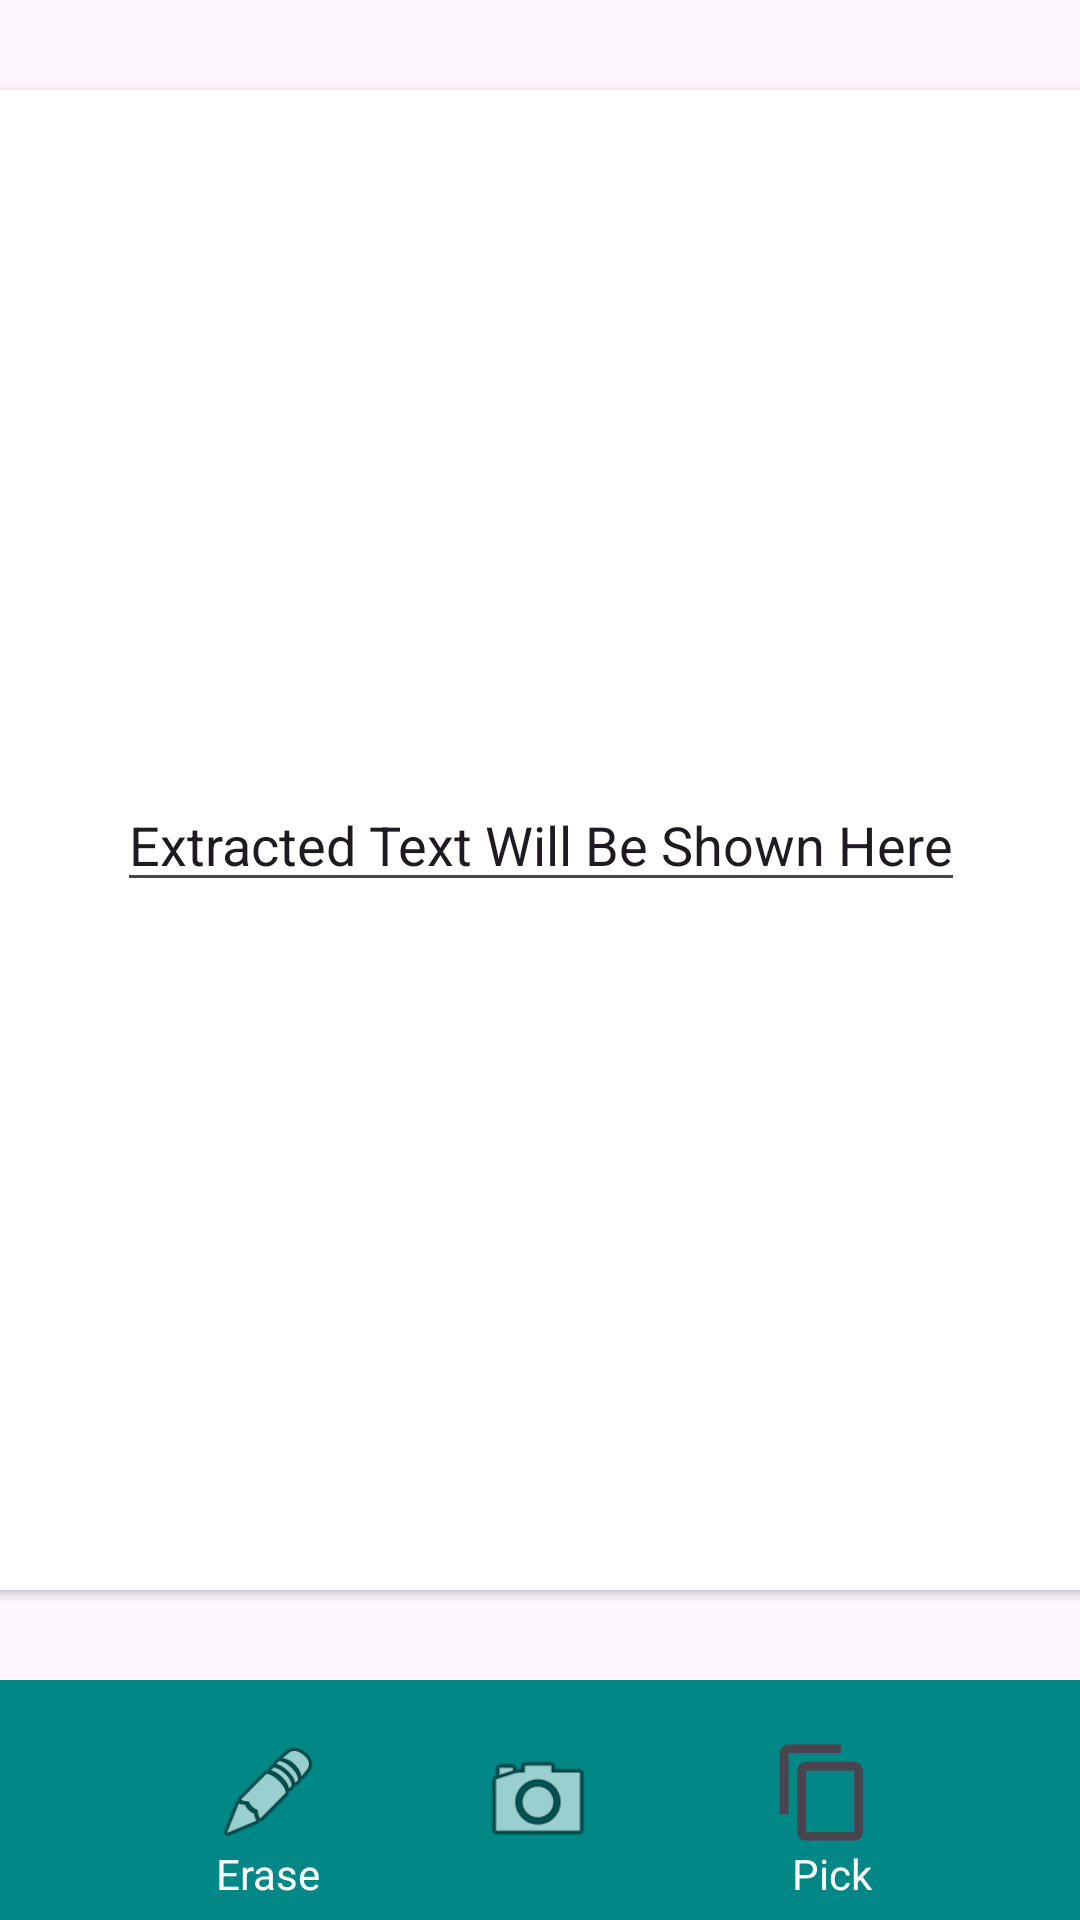

Point at icon controls on the screen. Image size 1080*1920, points as (x=x, y=y).
camera: (x=538, y=1798)
edit: (x=268, y=1792)
